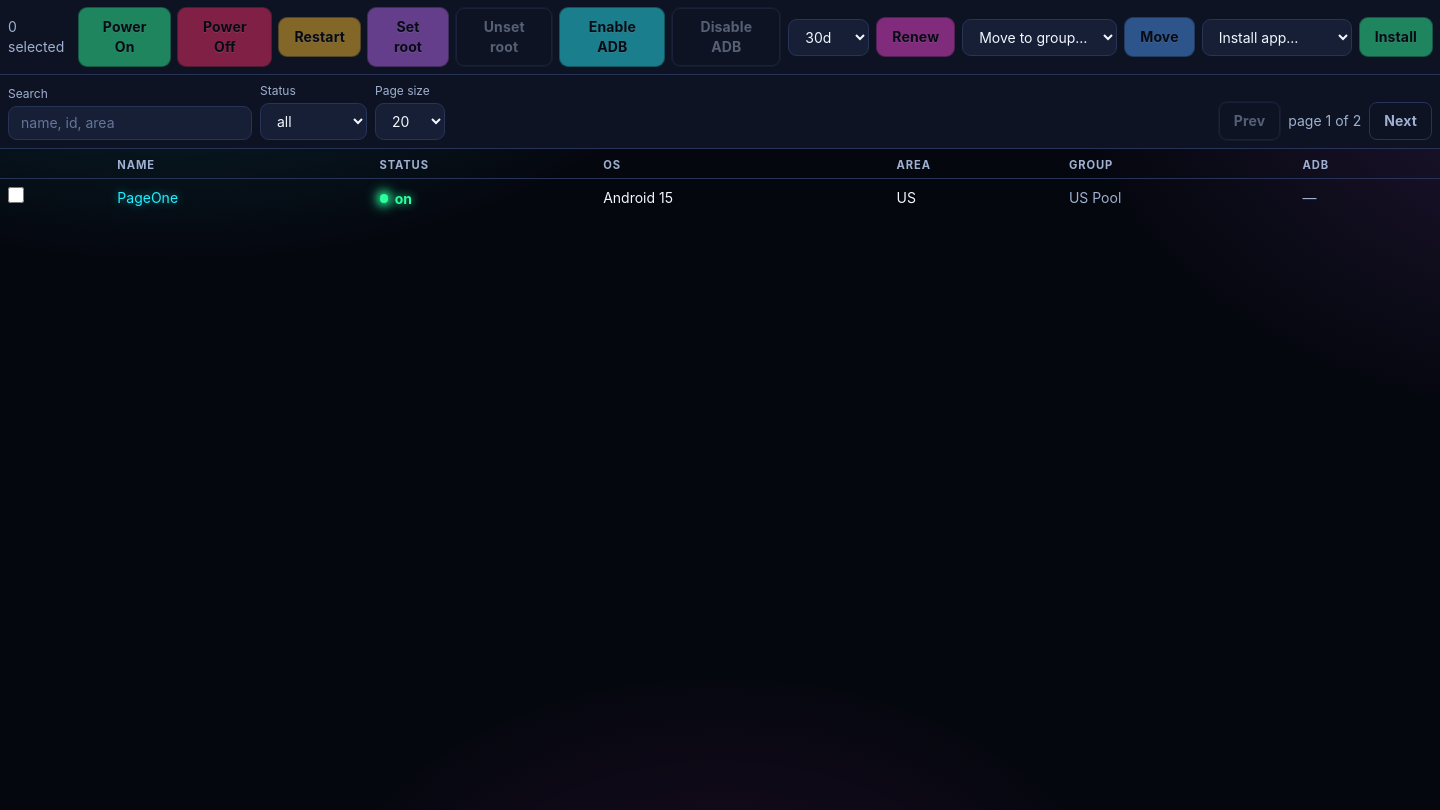
Test: FleetPage › advances the page when Next is clicked
Expected: the button "PageOne" is shown, [117,187,178,208]
Expected: the text "page 1 of 2" is shown, [1288,111,1361,131]
Click the button "Next": [1401, 121] box [1369,102,1432,140]
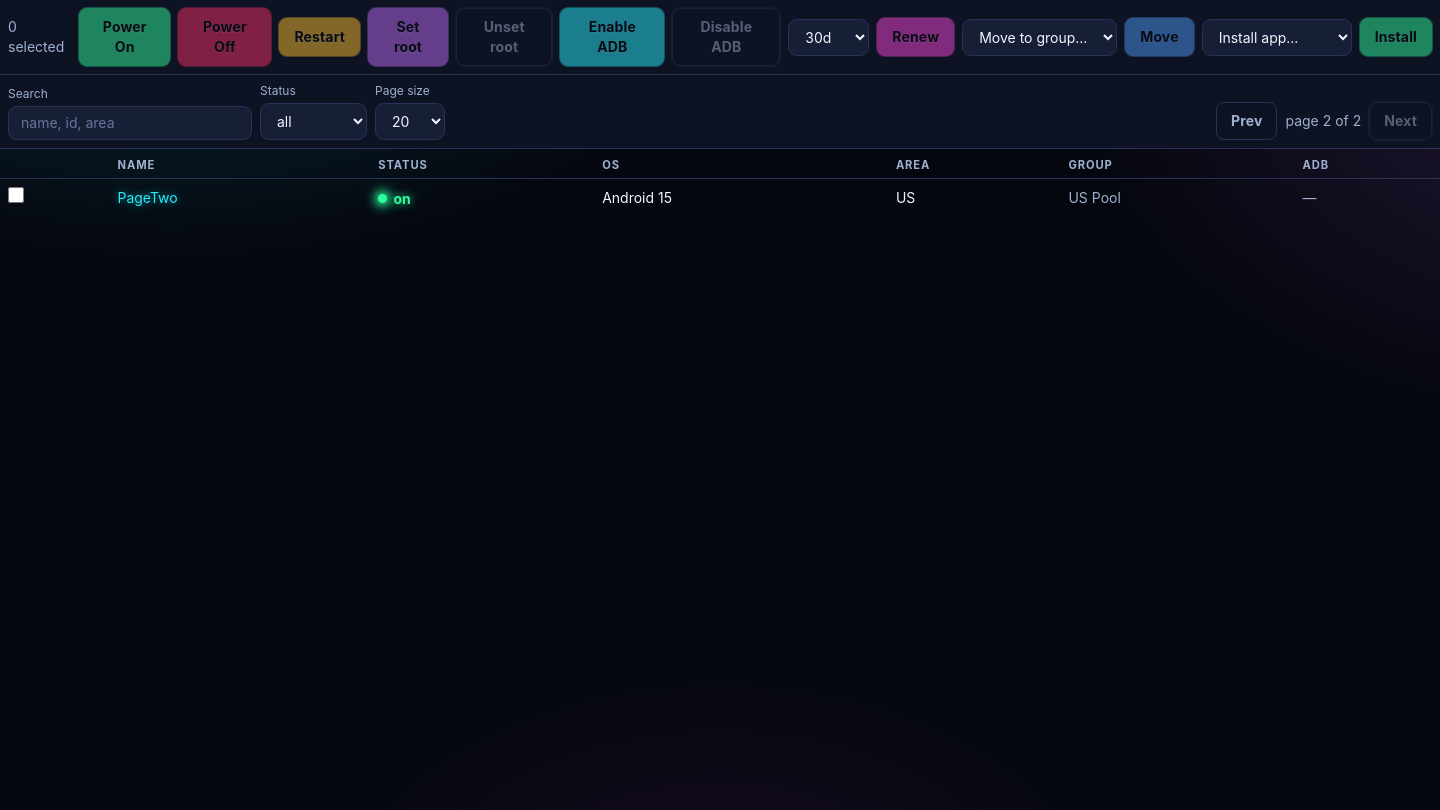
Expected: the button "PageTwo" is shown, [118,187,178,208]
Expected: the text "page 2 of 2" is shown, [1285,111,1361,131]
